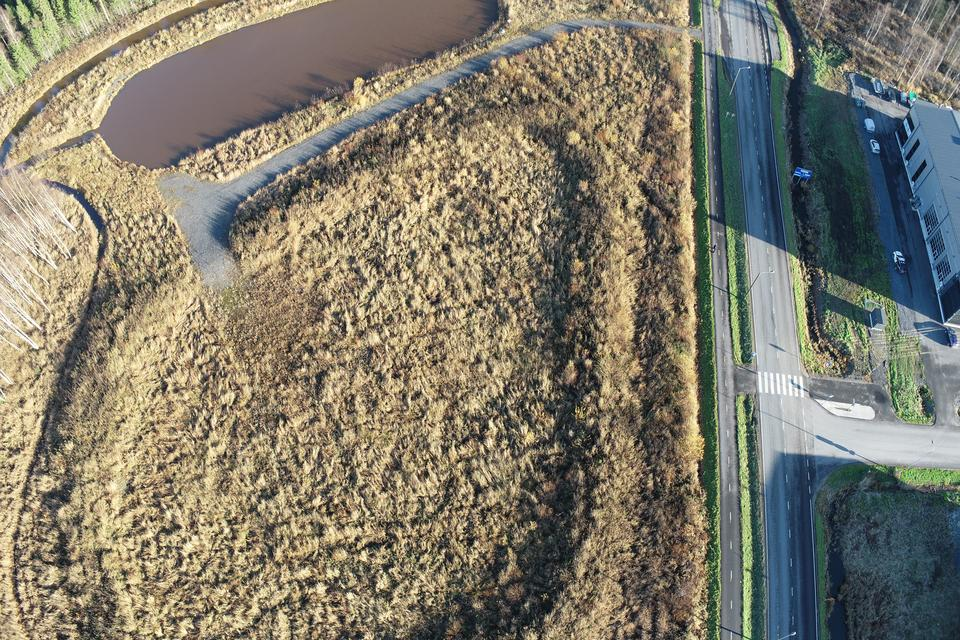intersection: (692, 360, 861, 520), (659, 8, 795, 58)
